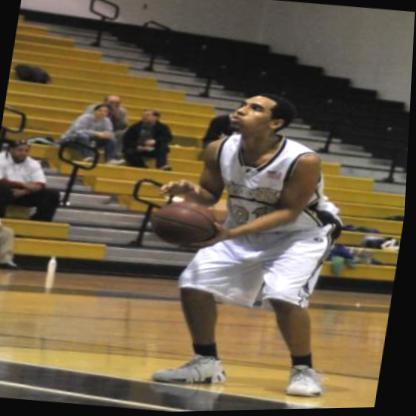basketball: (148, 198, 227, 250)
